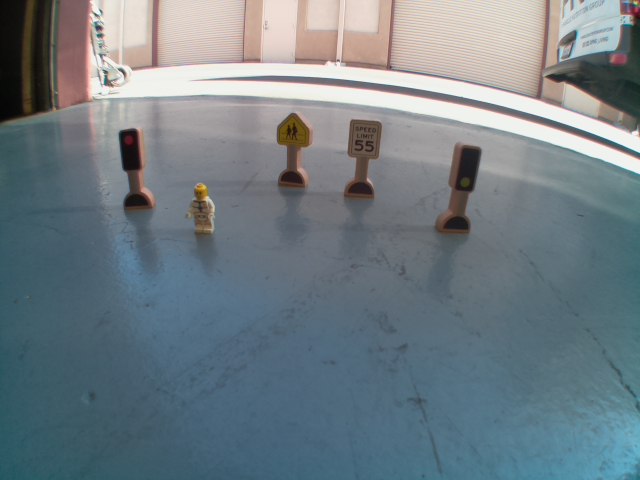Green Traffic Light: (451, 143, 481, 193)
Red Traffic Light: (114, 125, 148, 174)
Speed Limit 55: (348, 116, 381, 161)
YIELD: (274, 111, 313, 153)
person: (183, 182, 218, 233)
